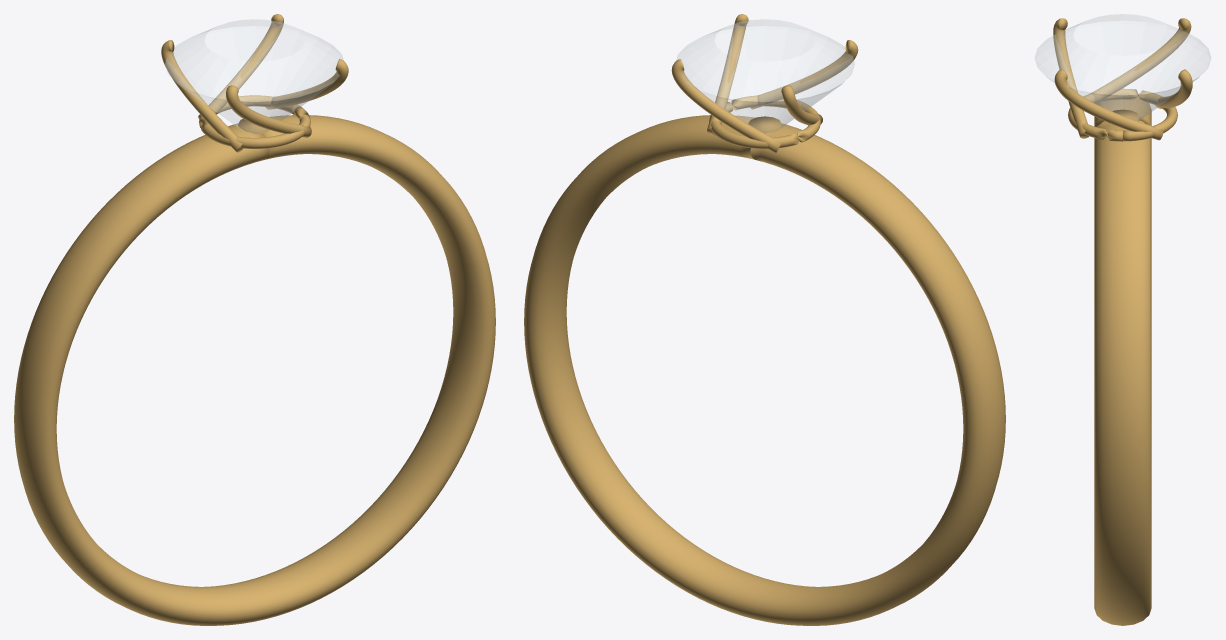
The model's file is settings-trellis.glb.
3 views of the same model, side by side, from view 1: azimuth 30°, elevation 25°; view 2: azimuth 150°, elevation 25°; view 3: azimuth 270°, elevation 25° (orthographic).
Visible parts, largest first — view 1: Band, Gem, Lower gallery, Prong.001, Prong, Prong.002, Prong.003; view 2: Band, Gem, Lower gallery, Prong, Prong.002, Prong.003, Prong.001; view 3: Band, Gem, Lower gallery, Prong.001, Prong.003, Prong.002, Prong.
Part boxes in pixels (x1,y1,x2,y2): Band: [14, 115, 495, 625]; Gem: [165, 19, 343, 132]; Lower gallery: [199, 95, 310, 148]; Prong.001: [161, 40, 243, 152]; Prong: [198, 14, 283, 118]; Prong.002: [226, 85, 311, 137]; Prong.003: [266, 59, 348, 109]; Band: [524, 115, 1005, 625]; Gem: [676, 19, 854, 132]; Lower gallery: [709, 95, 820, 148]; Prong: [671, 59, 780, 152]; Prong.002: [750, 40, 858, 109]; Prong.003: [707, 14, 748, 135]; Prong.001: [781, 85, 822, 125]; Band: [1094, 97, 1151, 625]; Gem: [1035, 14, 1210, 120]; Lower gallery: [1068, 88, 1177, 141]; Prong.001: [1090, 18, 1191, 103]; Prong.003: [1054, 69, 1163, 140]; Prong.002: [1053, 18, 1088, 138]; Prong: [1155, 69, 1192, 108].
Size of the model in its own units: 19.6 by 22.94 by 6.5.
